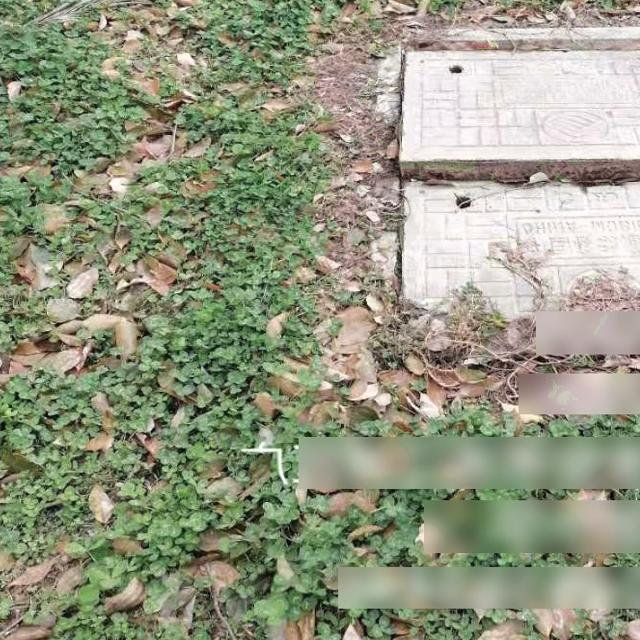uncovered: (338, 0, 640, 318)
